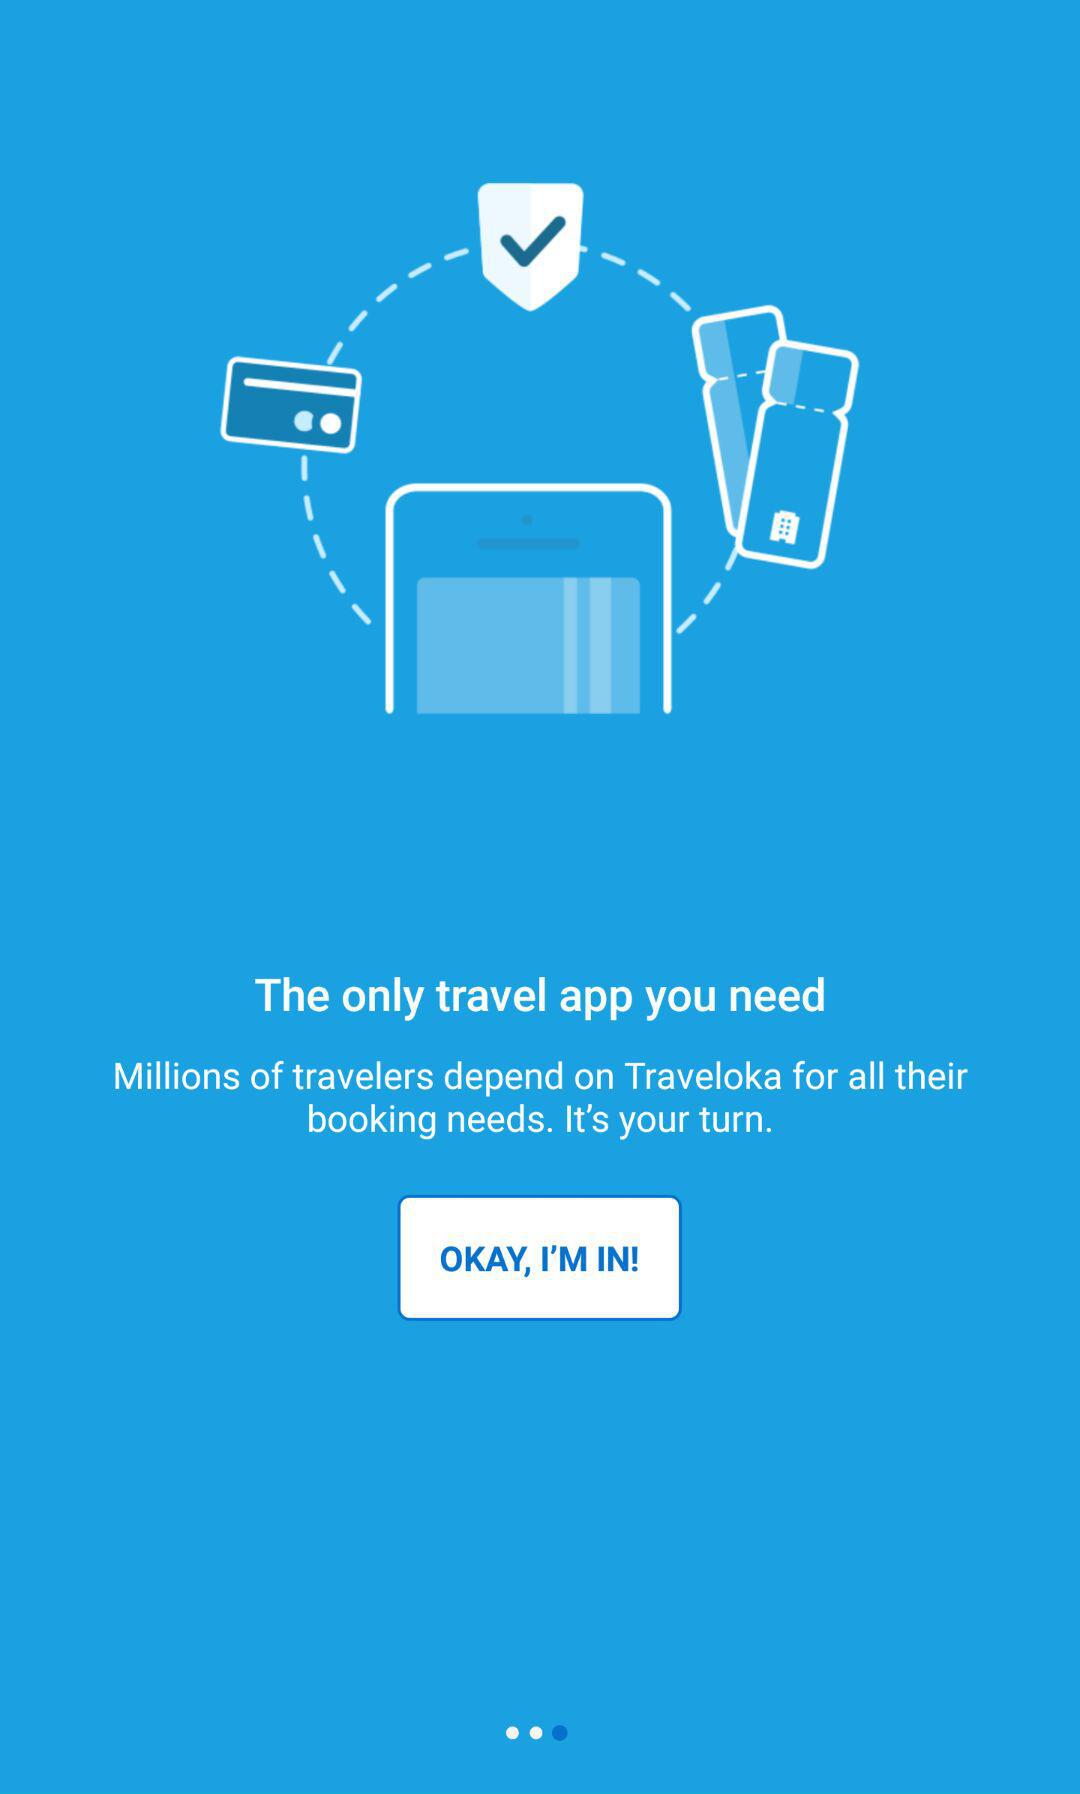Image: (219, 183, 862, 715)
PageIndicator: (505, 1725, 569, 1741)
Text: (115, 1060, 969, 1142), (254, 976, 825, 1023)
TextButton: (398, 1196, 683, 1322)
